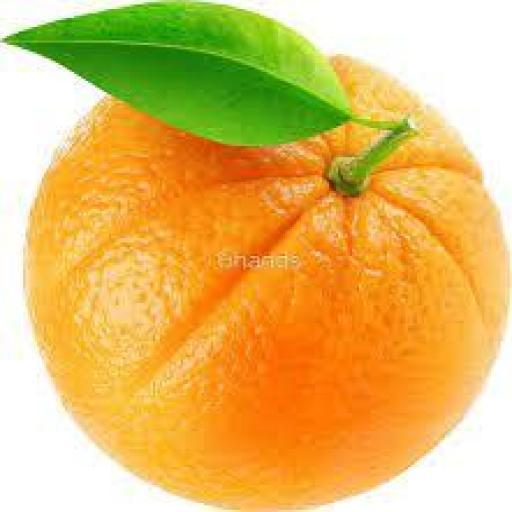orange: (26, 59, 509, 509)
